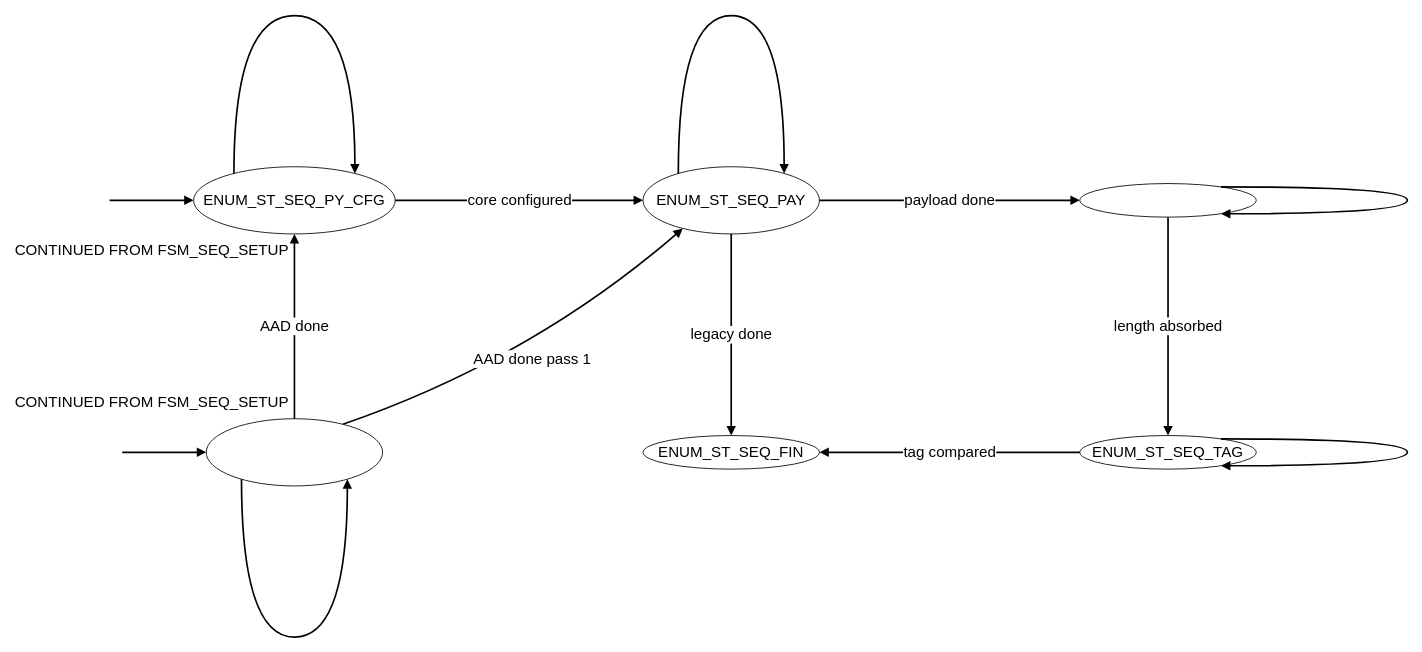
Image size: 1422x652. Some labels were removed from this diagram. Each missing label, with the box of its shape:
ENUM_ST_SEQ_AAD: (205, 418, 383, 486)
ENUM_ST_SEQ_LEN: (1079, 183, 1256, 217)
